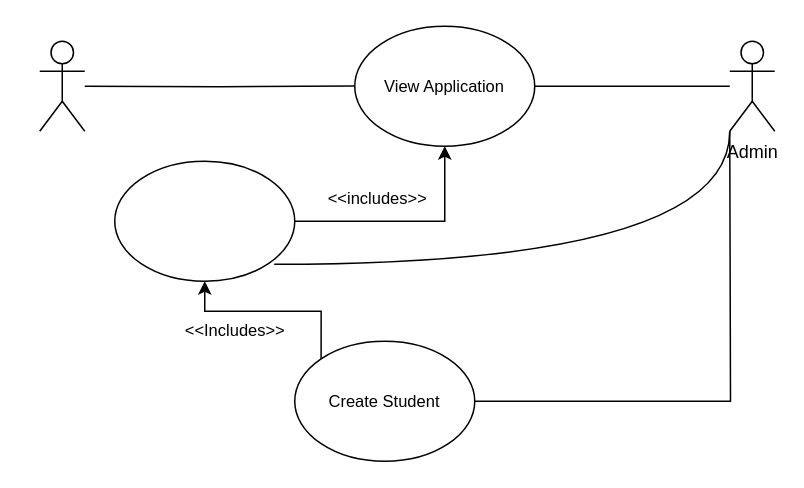
This 804x488 diagram has some shape labels left out. The shapes that lost their labels are listed below. From the top down, each one's centre as x and y in pixels, then its label:
pixel 61 85: Applicant
pixel 204 220: Approve/Deny Application
